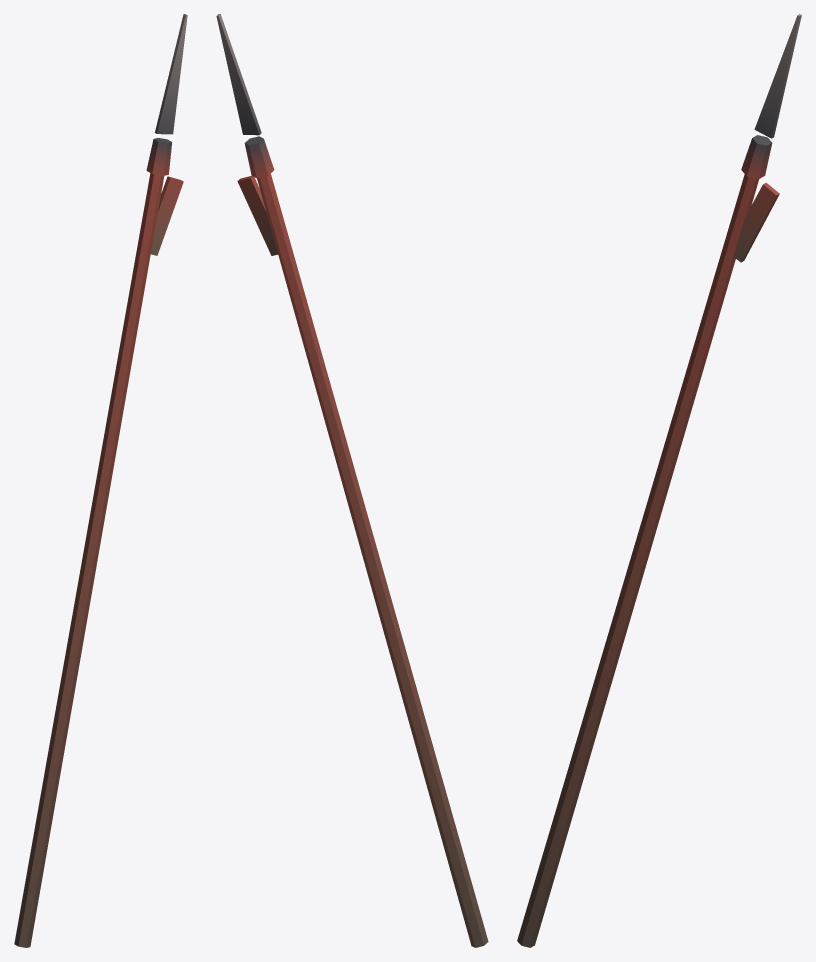
File: spear_stuck.glb
3 renders of one model, left to right at view 1: azimuth 30°, elevation 25°; view 2: azimuth 150°, elevation 25°; view 3: azimuth 330°, elevation 25°, orthographic. The views are drawn at different scales.
Visible parts, largest first — view 1: spear; view 2: spear; view 3: spear.
Part boxes in pixels (bbox=[...]): spear: bbox=[14, 14, 187, 947]; spear: bbox=[216, 14, 488, 947]; spear: bbox=[517, 14, 801, 947].
Size of the model in its own units: 0.5122 by 1.98 by 0.1939.
